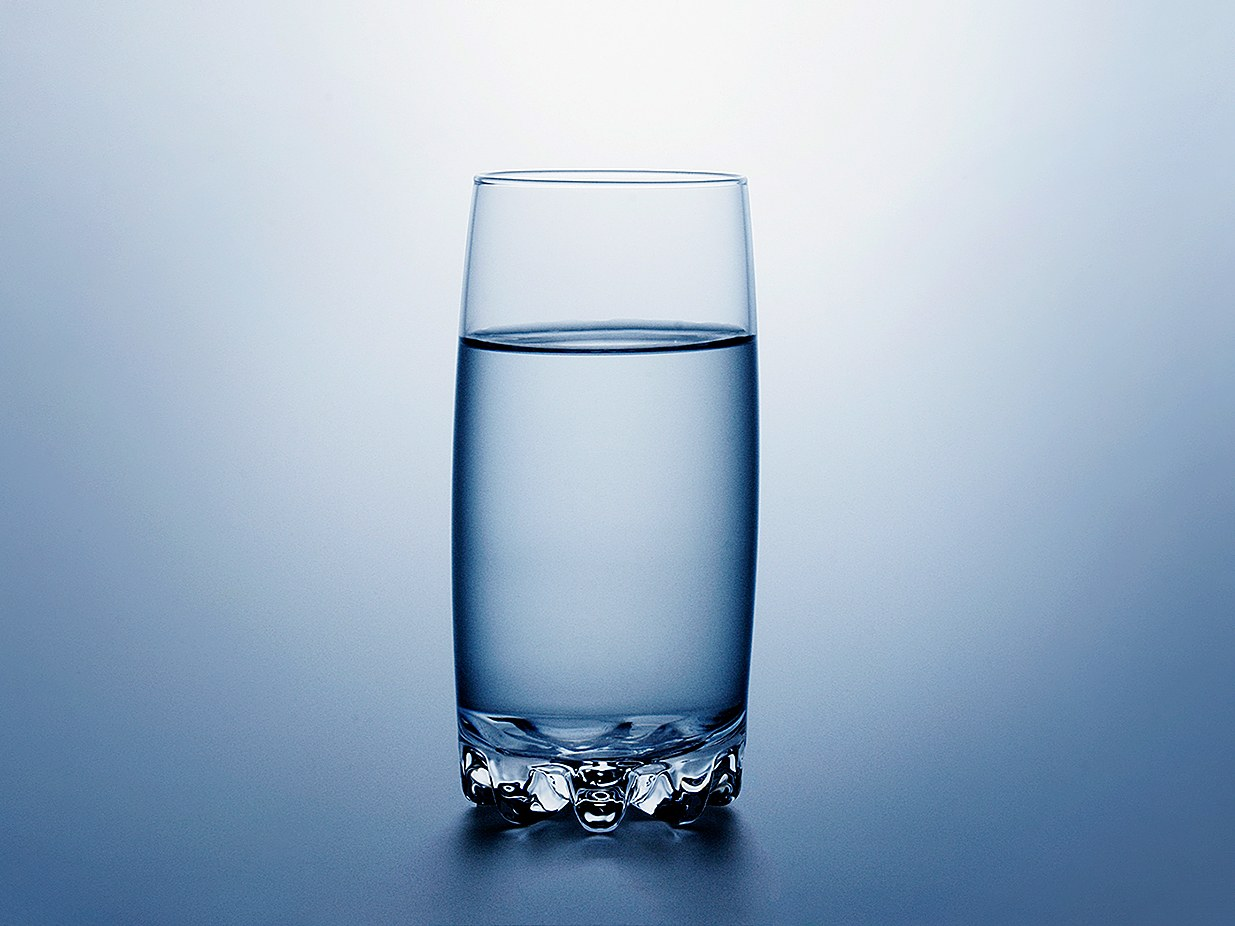glass of water: (461, 178, 739, 831)
